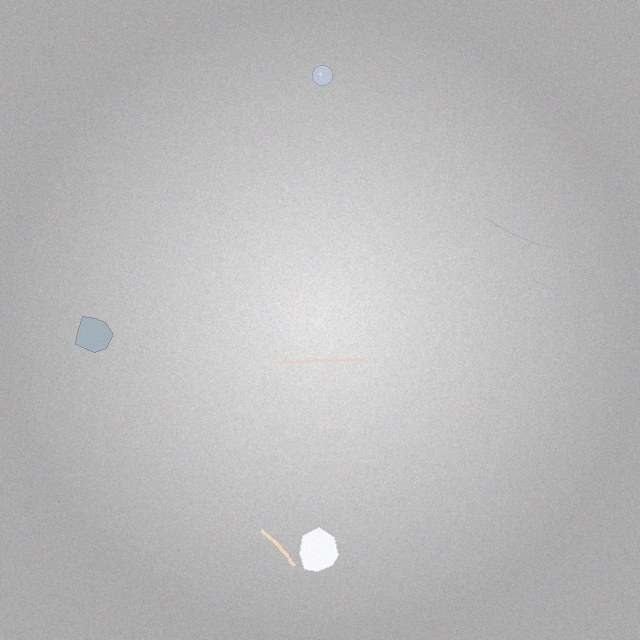fiber: (482, 215, 582, 255), (257, 527, 298, 569), (274, 357, 367, 367)
fragment: (300, 528, 339, 572), (75, 317, 114, 353)
pellet: (313, 66, 332, 85)
